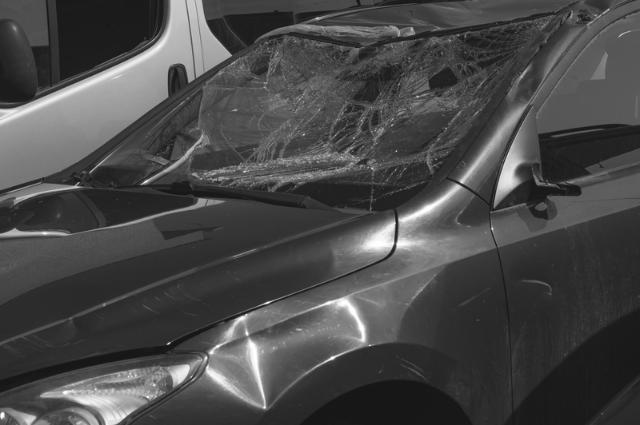Fender: (181, 254, 510, 423)
Windshield: (55, 11, 563, 209)
